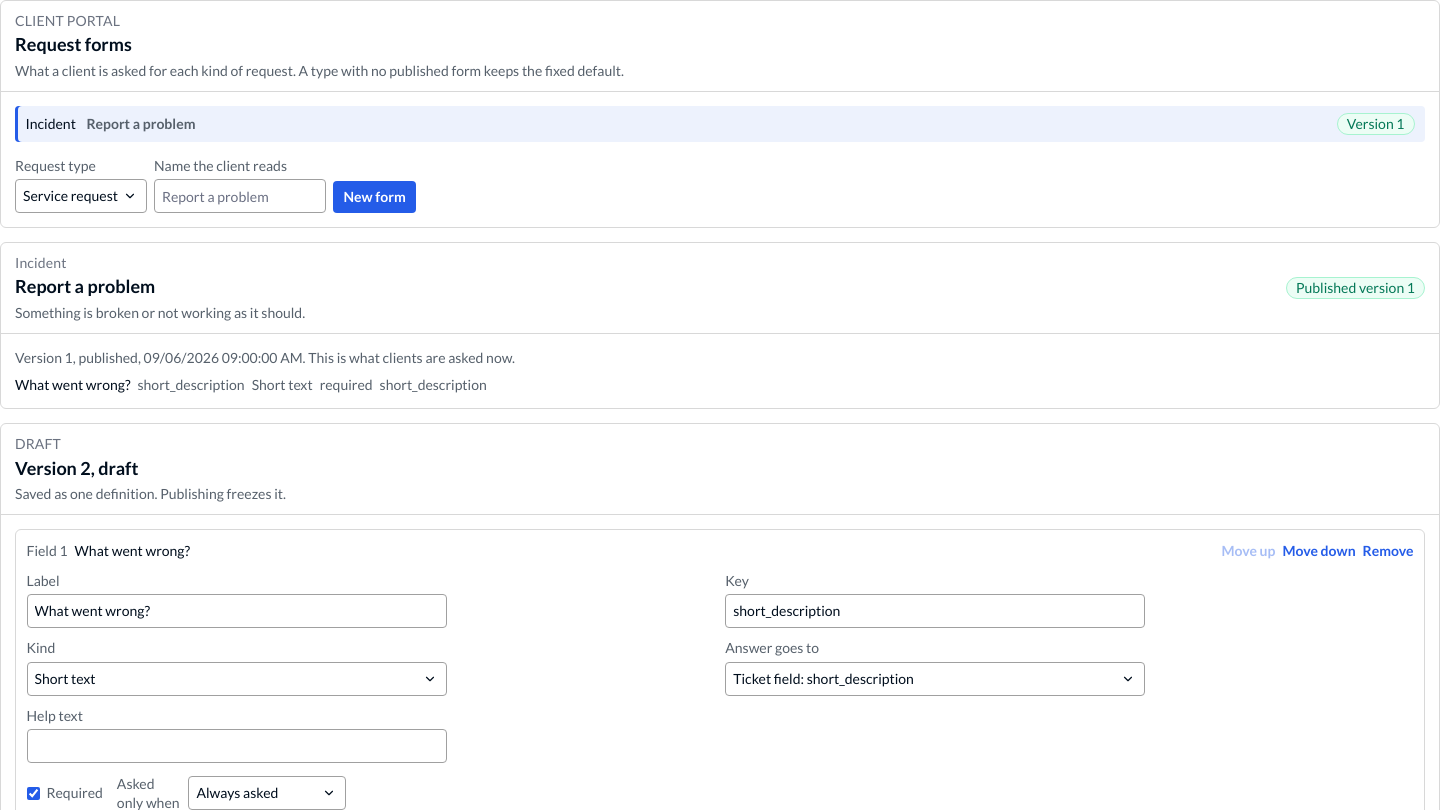
Test: TicketFormsPanel › creates a form for a type that has none and words the API's refusal
Select "Change" in the dropdown named "Request type of the new form" at (81, 196), box [15,179,147,213]
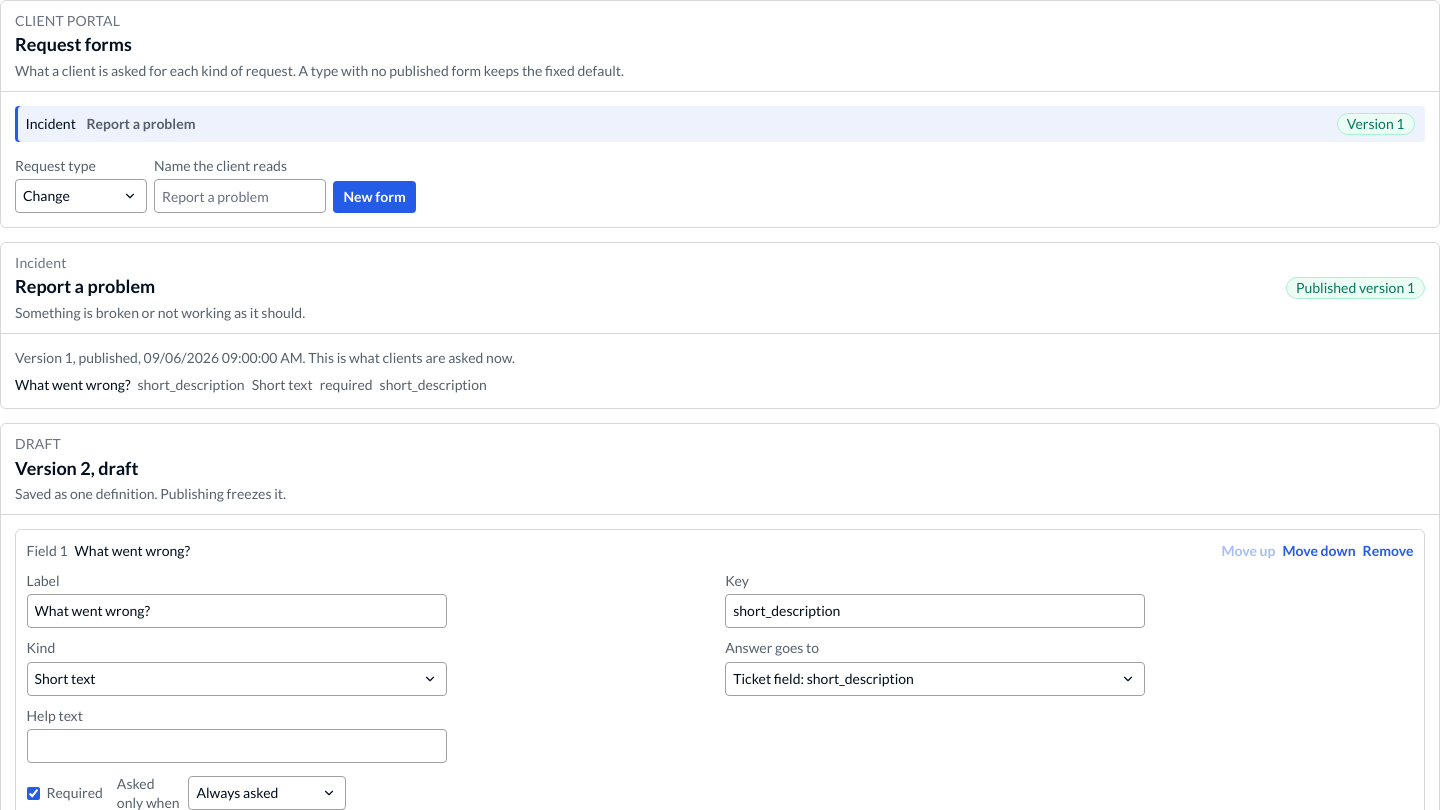
Click the button "New form".
click(375, 197)  # box [333,181,416,213]
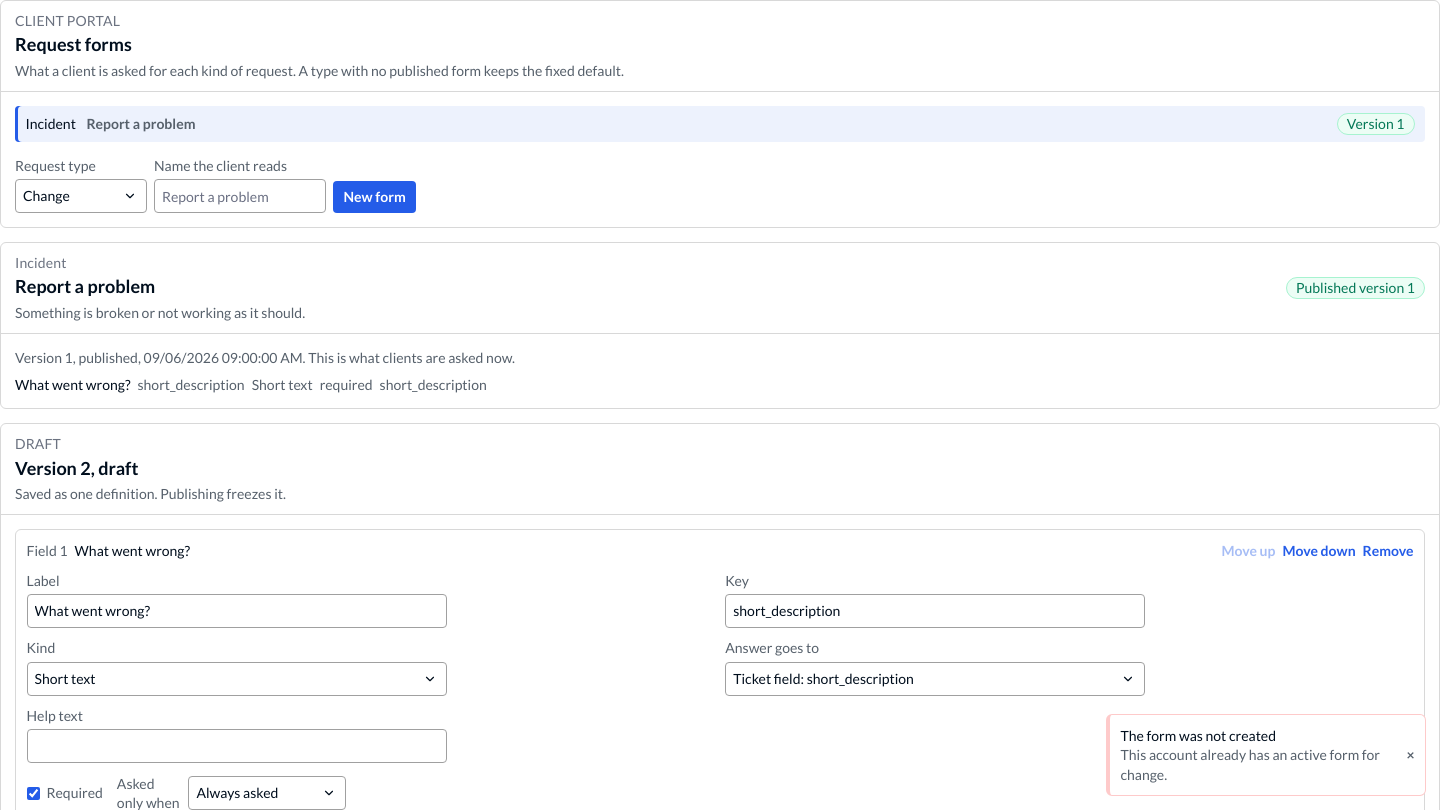
Now the text "This account already has an active form for change." is shown, box [1120,745,1396,784]
